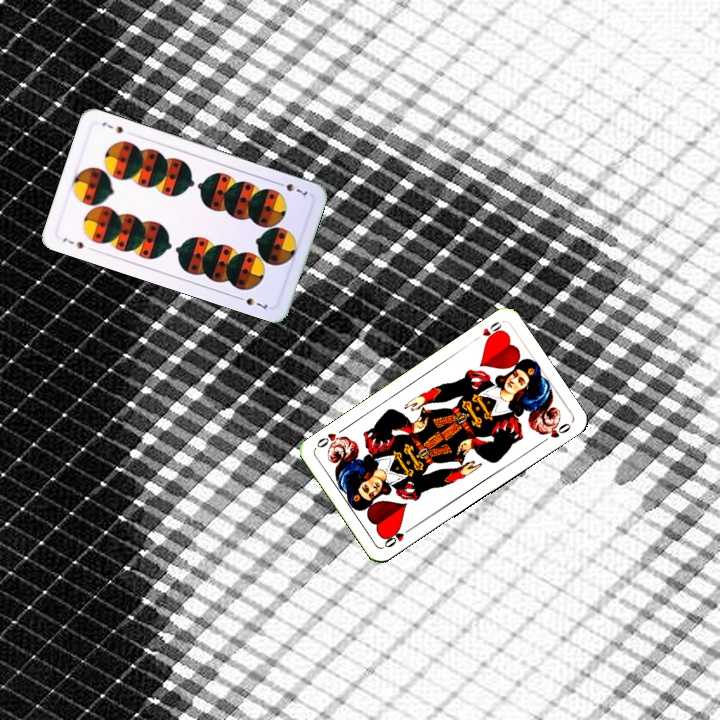HO: (468, 317, 506, 345), (380, 523, 416, 550)
S7: (273, 178, 310, 200), (59, 234, 87, 251)
